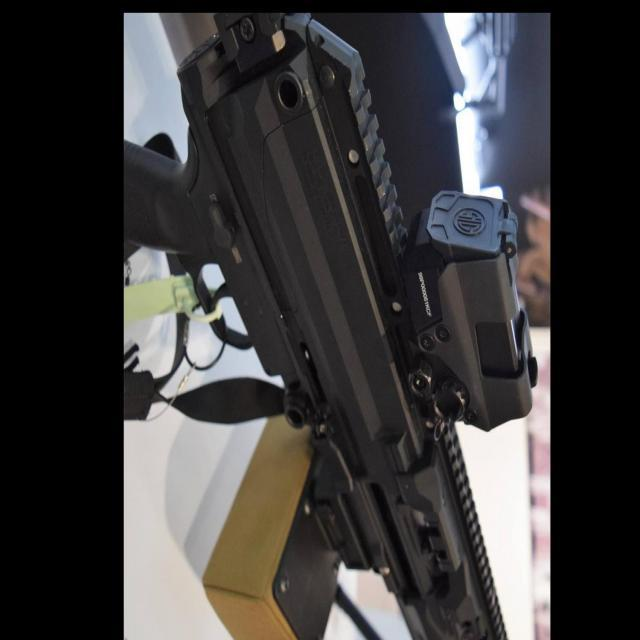weapon: (124, 15, 540, 640)
